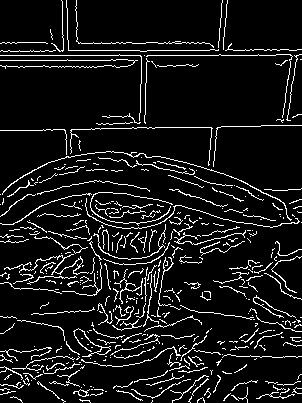cucumber: (1, 146, 294, 248)
